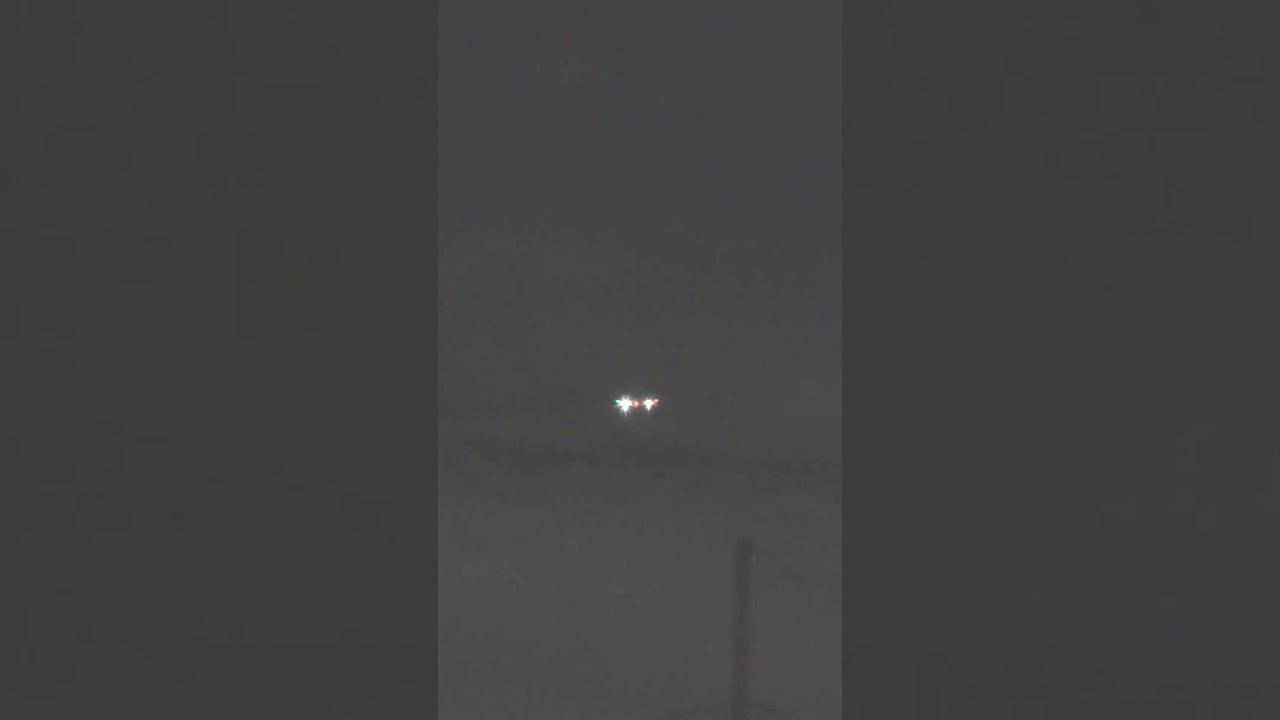Plane: (580, 380, 689, 432)
